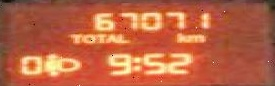0: (17, 52, 39, 75), (137, 10, 159, 29)
1: (199, 9, 210, 29)
2: (166, 50, 190, 73)
5: (142, 51, 164, 74)
6: (93, 10, 113, 30)
7: (117, 10, 135, 29), (166, 9, 183, 29)
9: (106, 51, 130, 75)
X: (172, 32, 186, 43), (186, 33, 203, 42), (130, 54, 139, 71), (79, 33, 93, 43), (68, 33, 79, 43), (93, 33, 104, 42), (115, 33, 126, 42), (106, 33, 115, 42)
